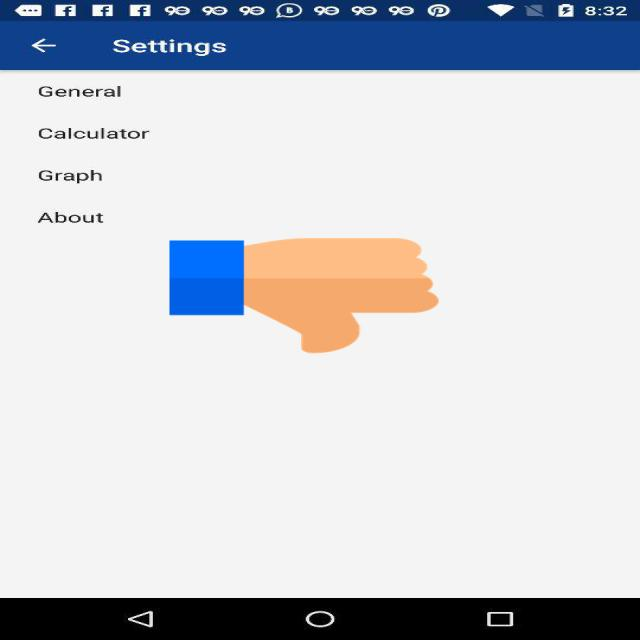obstruction: (170, 235, 438, 356)
